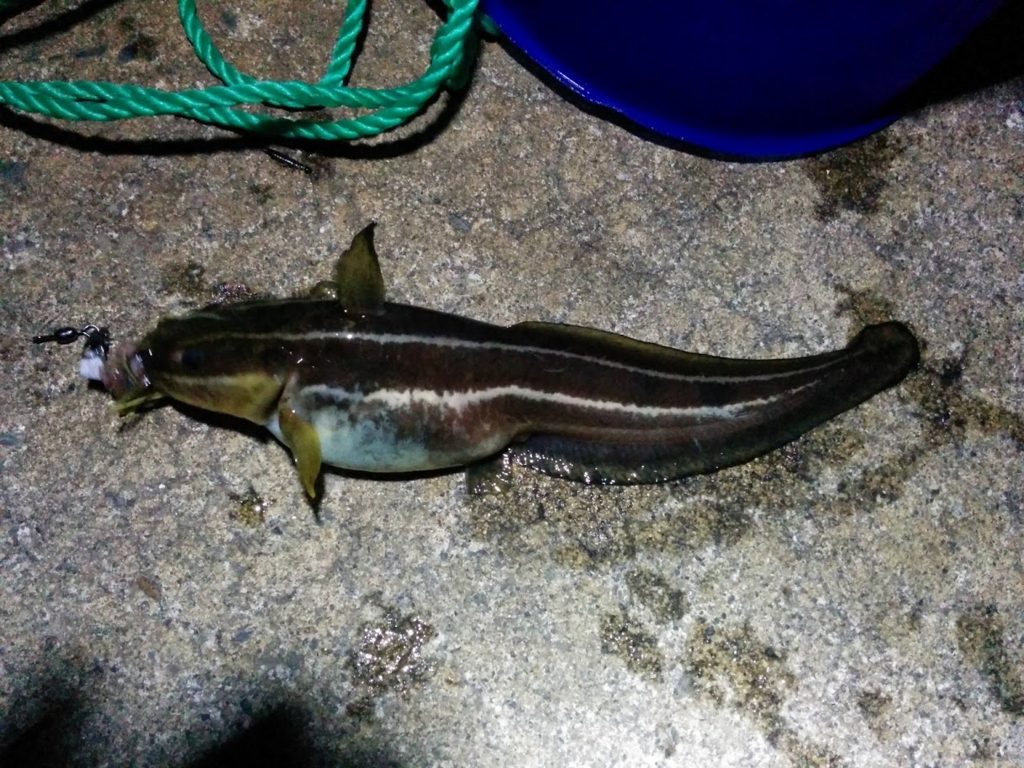gonzui: (58, 226, 974, 509)
